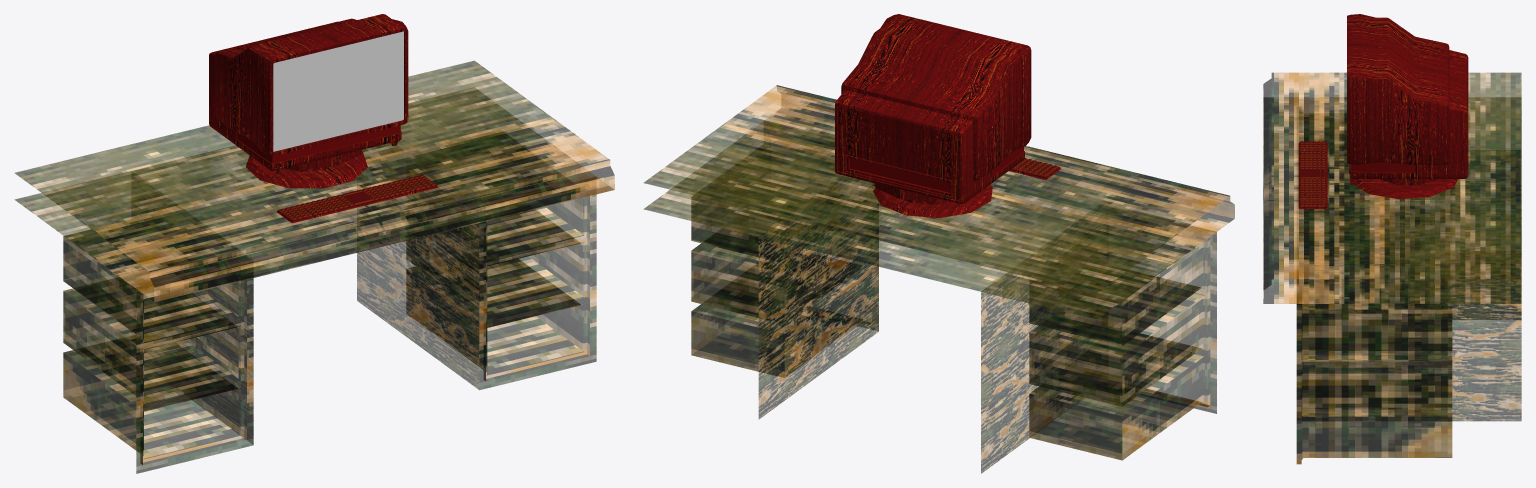
The model's file is table.glb.
The picture shows the model from 3 angles, left to right: view 1: azimuth 30°, elevation 25°; view 2: azimuth 150°, elevation 25°; view 3: azimuth 270°, elevation 25°; orthographic projection. The views are drawn at different scales.
Parts seen in each view (by area): view 1: table, table.001, table.003, table.002; view 2: table, table.001, table.003, table.002; view 3: table, table.001, table.003, table.002.
Boxes of the visible parts, x1,y1,x2,y2 form: table: (14,60,614,473); table.001: (209,14,438,223); table.003: (246,151,367,188); table.002: (284,150,361,171); table: (643,85,1234,473); table.001: (835,14,1061,203); table.003: (873,184,992,217); table.002: (874,183,949,204); table: (1263,72,1521,464); table.001: (1298,14,1468,209); table.003: (1349,174,1458,199); table.002: (1380,179,1437,185).
Bounding box in the file's own units: 3.12 × 2.3 × 1.65.
Materials: 3 (2 with a texture image).
